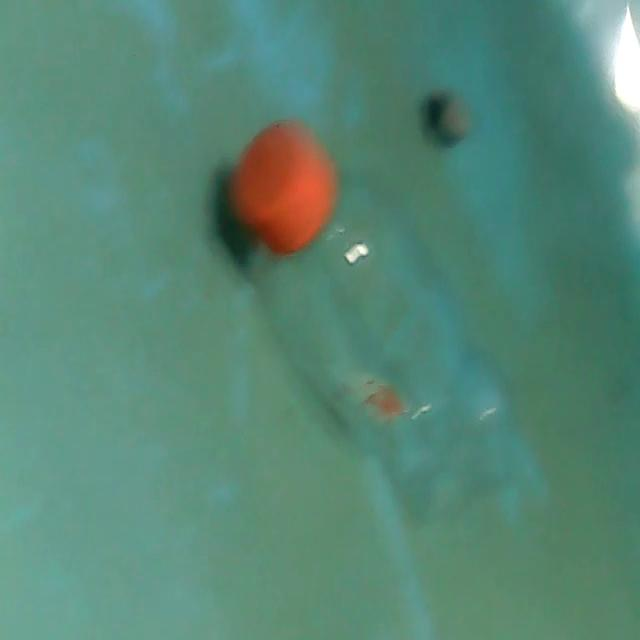plastic bottle: (229, 112, 584, 539)
